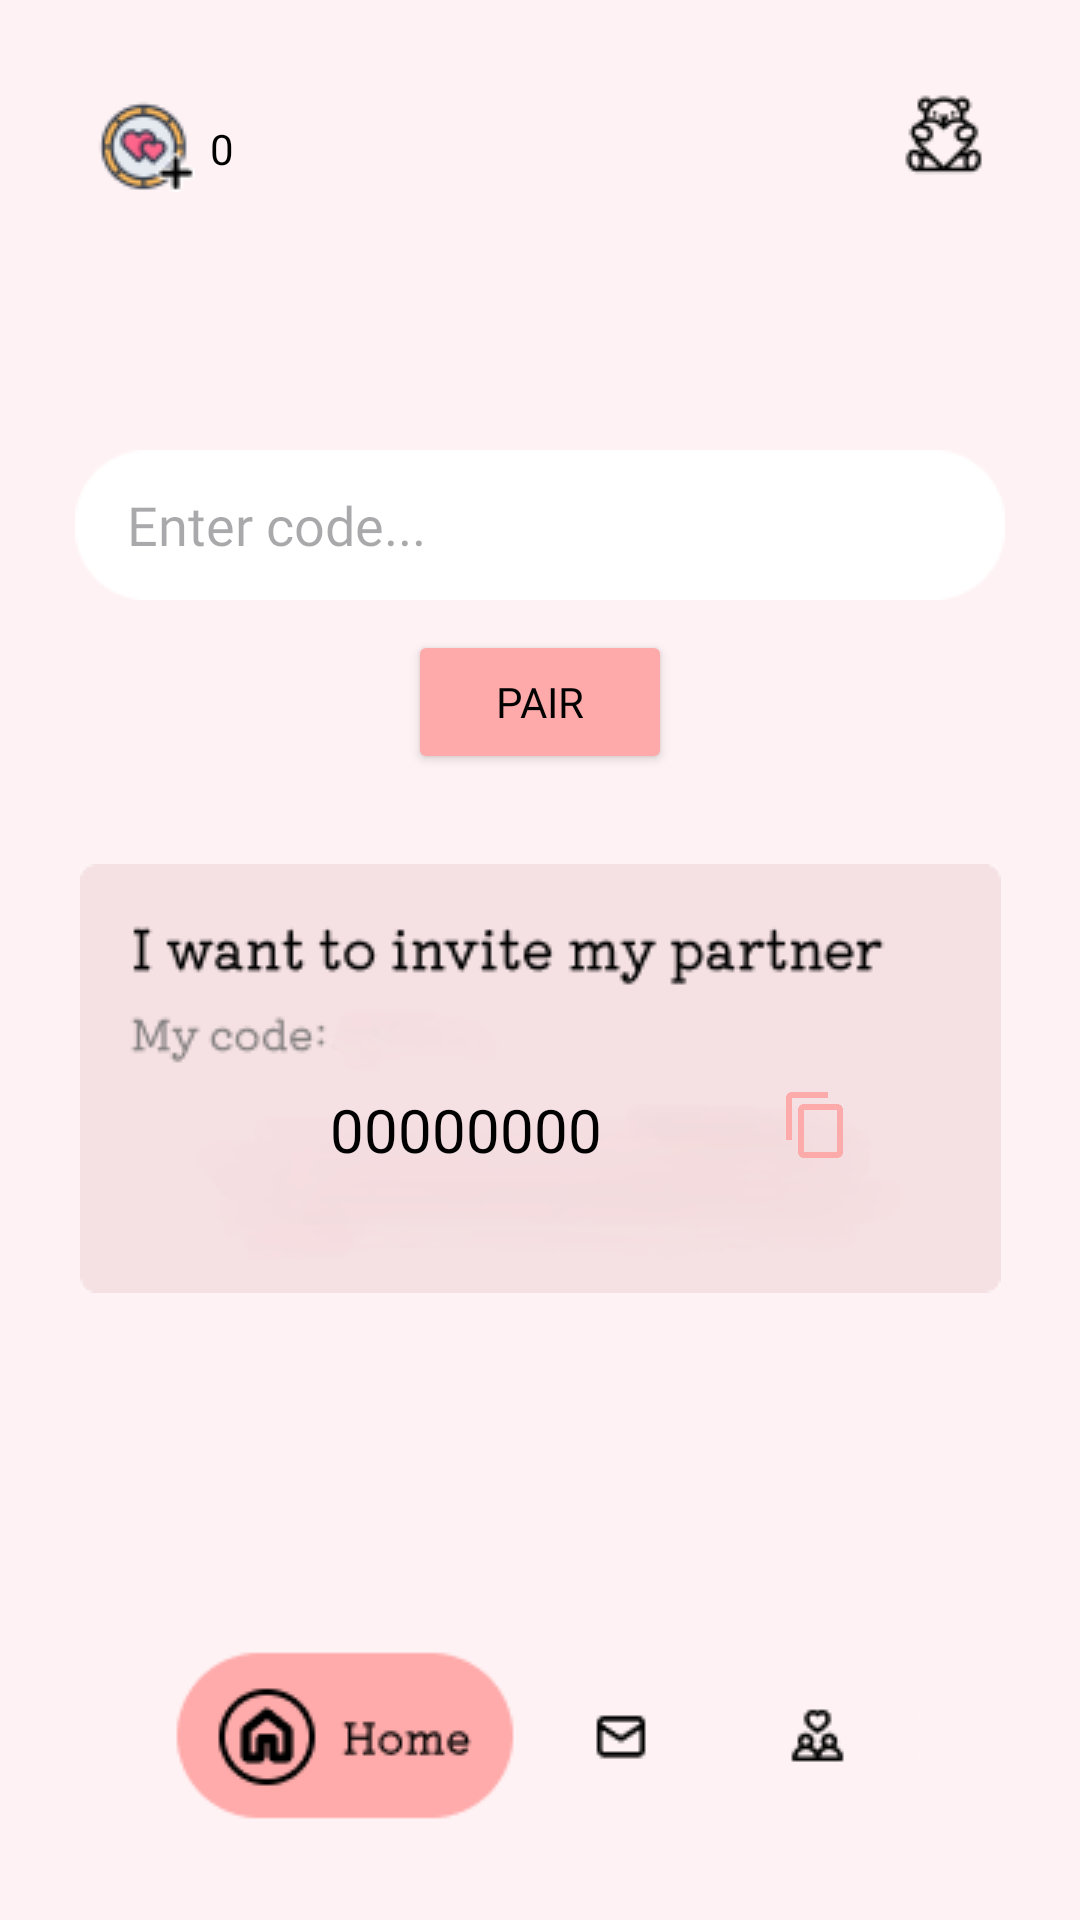

Named icons in this screenshot (1080px×1920px) and their bounding boxes, (x1, y1, x2, y2):
gifts: (905, 95, 982, 173)
tokens: (101, 103, 193, 190)
